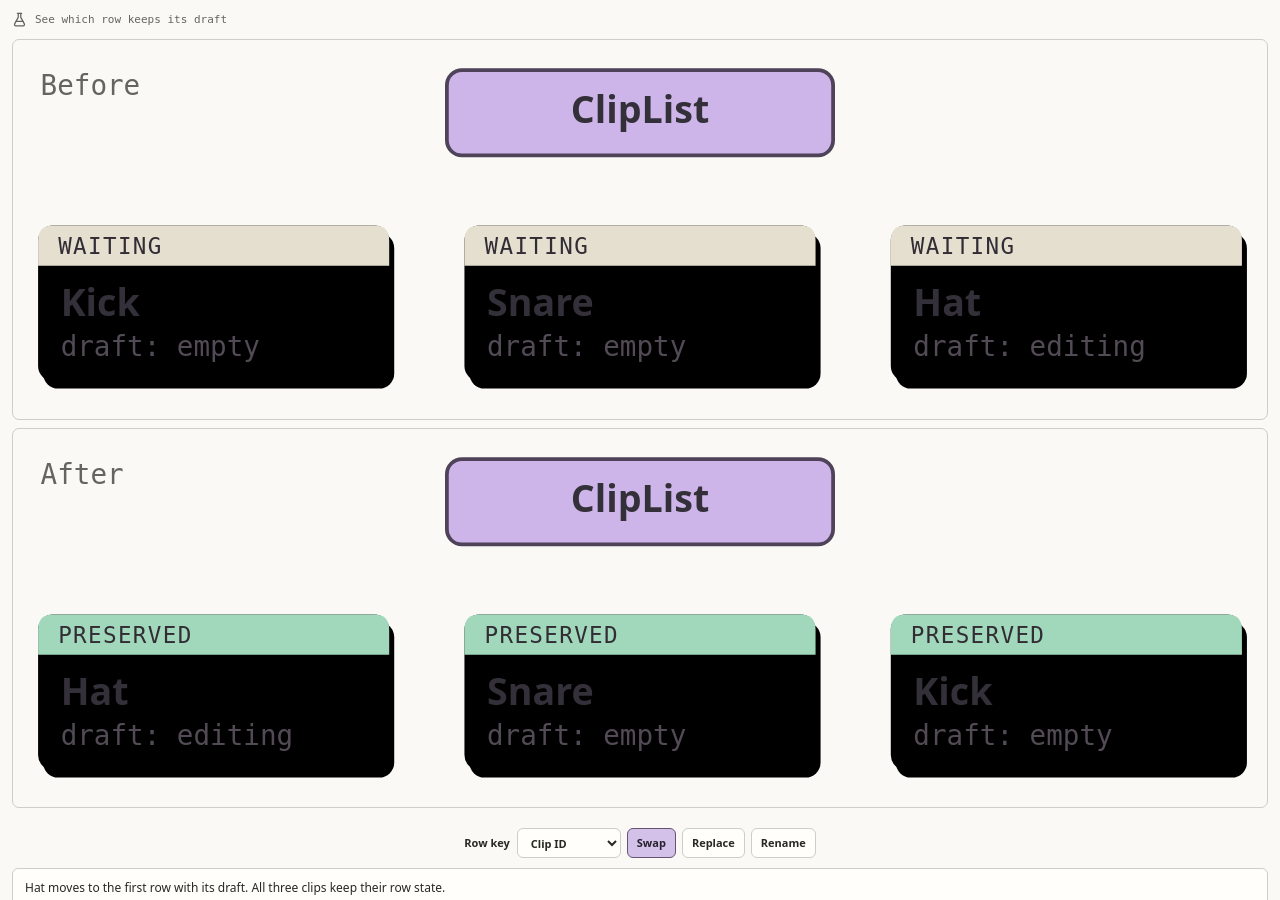
Test: Hands-on experiments › shows that an index key can preserve an editing draft on the wrong clip
Select "Array index" in the dropdown labelled "Row key" at (569, 843), box [517,828,621,858]
(page scrolled)
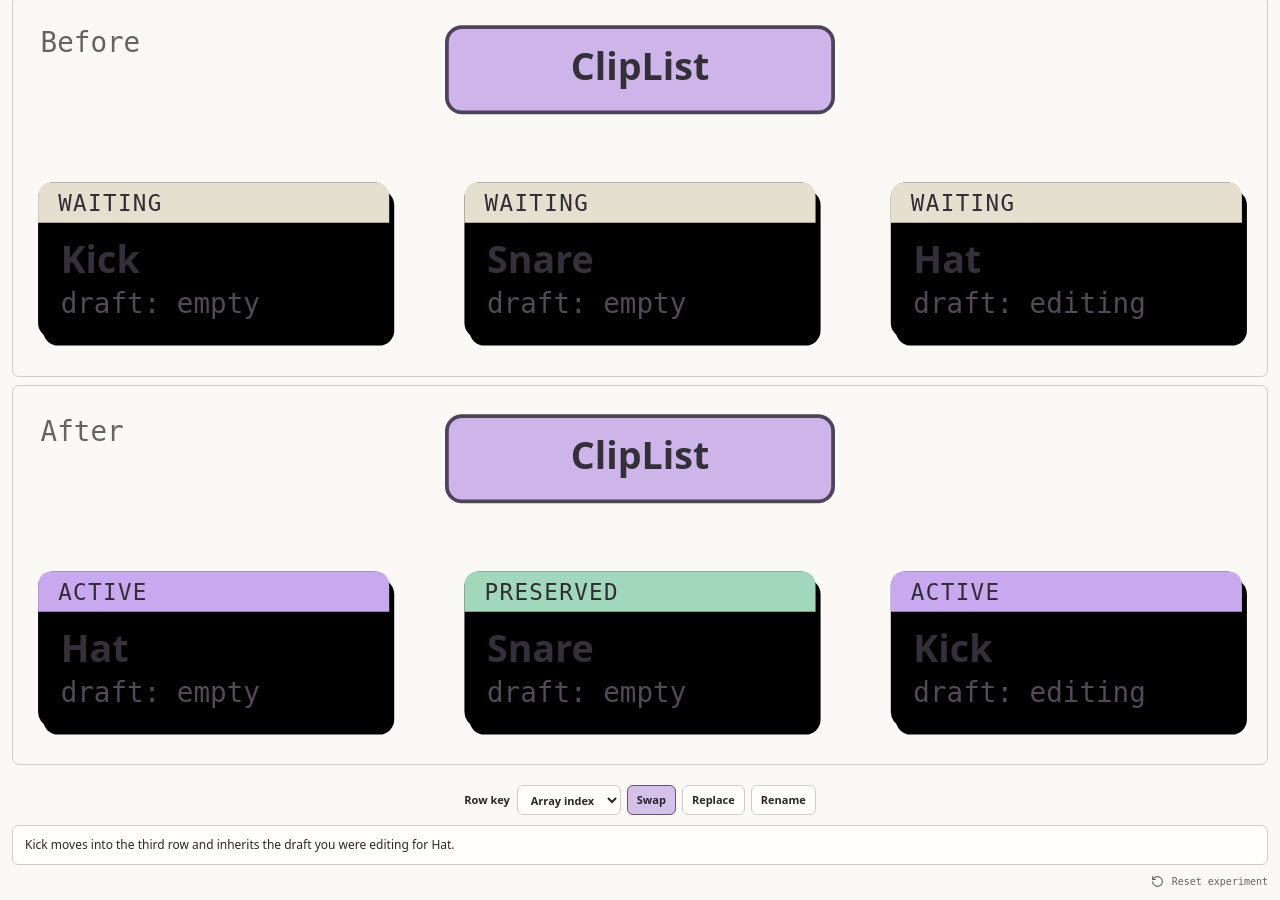
Result: the text "inherits the draft you were editing for Hat" is shown at [25,836,455,853]
